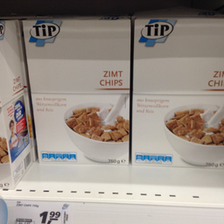cereal: (21, 18, 131, 163), (132, 17, 224, 165)
